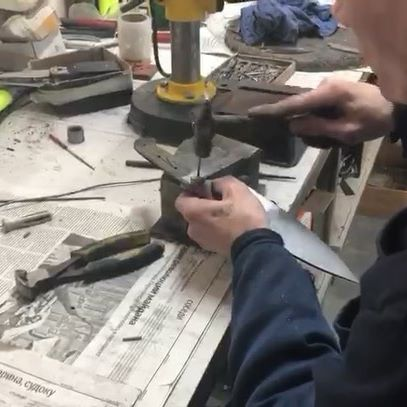knife: (134, 137, 359, 283)
